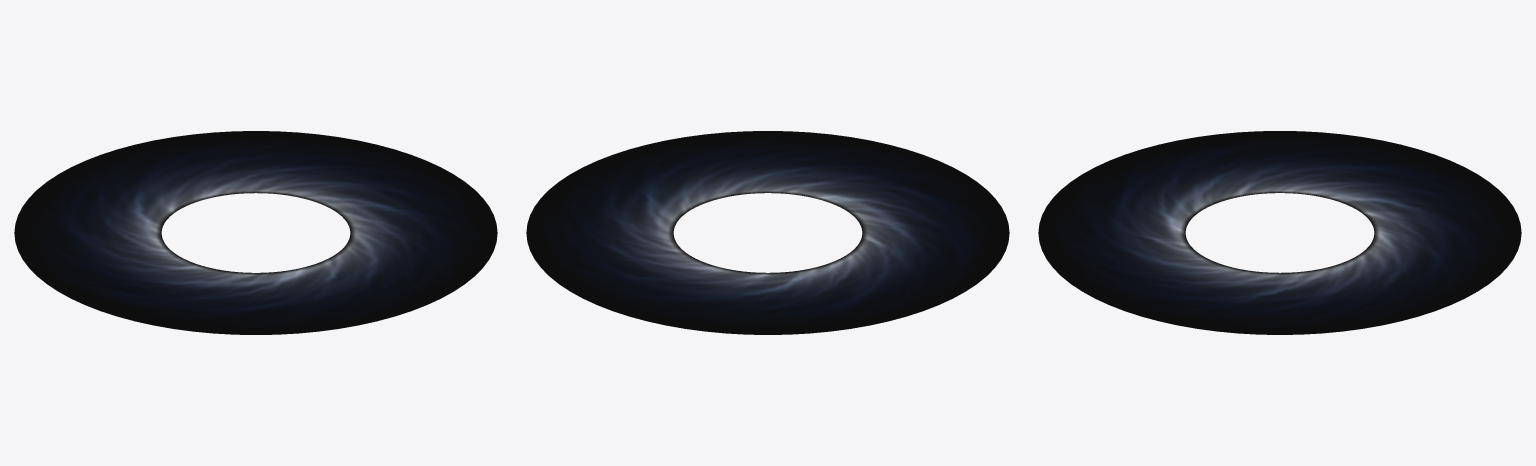
Rendered from warp_disk.fbx.
The picture shows the model from 3 angles, left to right: view 1: azimuth 30°, elevation 25°; view 2: azimuth 150°, elevation 25°; view 3: azimuth 270°, elevation 25°; orthographic projection.
Parts seen in each view (by area): view 1: warp_disk; view 2: warp_disk; view 3: warp_disk.
Boxes of the visible parts, <box> form: warp_disk: <box>14,131,497,334</box>; warp_disk: <box>526,131,1009,334</box>; warp_disk: <box>1038,131,1521,334</box>.
Size of the model in its own units: 6.4 by 6.4 by 6.4.
